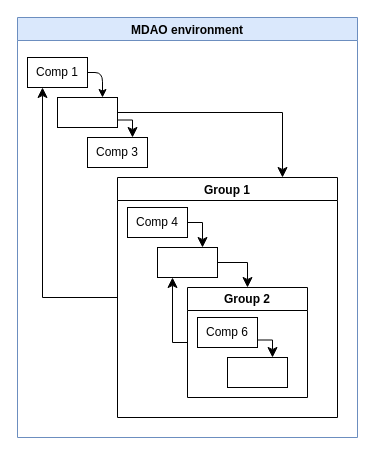
This 375x455 diagram has some shape labels left out. Each missing label, with the centre of its shape:
Comp 2: (87,112)
Comp 5: (187,262)
Comp 7: (257,372)
